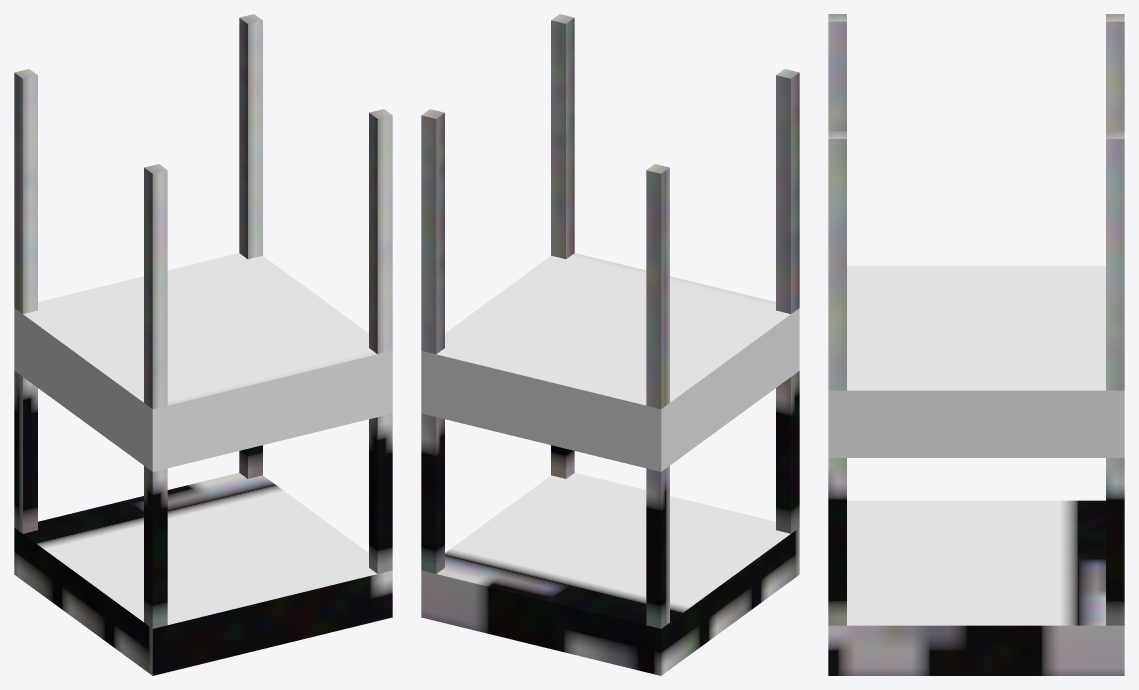
Rendered from symboller_base.obj.
3 views of the same model, side by side, from view 1: azimuth 30°, elevation 25°; view 2: azimuth 150°, elevation 25°; view 3: azimuth 270°, elevation 25° (orthographic). The views are drawn at different scales.
Parts seen in each view (by area): view 1: shape2, shape1, shape5, shape4, shape6, shape3; view 2: shape2, shape1, shape6, shape3, shape5, shape4; view 3: shape2, shape1, shape3, shape4, shape5, shape6.
Boxes of the visible parts, x1,y1,x2,y2 form: shape2: (14, 253, 392, 471); shape1: (14, 473, 392, 675); shape5: (144, 164, 167, 628); shape4: (369, 109, 392, 573); shape6: (14, 69, 37, 533); shape3: (239, 14, 262, 478); shape2: (421, 253, 799, 471); shape1: (421, 473, 799, 675); shape6: (646, 164, 669, 628); shape3: (421, 109, 444, 573); shape5: (776, 69, 799, 533); shape4: (551, 14, 574, 478); shape2: (828, 265, 1124, 457); shape1: (828, 500, 1124, 675); shape3: (1106, 131, 1124, 625); shape4: (828, 131, 846, 625); shape5: (828, 14, 846, 131); shape6: (1106, 14, 1124, 131).
Size of the model in its own units: 1 by 2 by 1.
